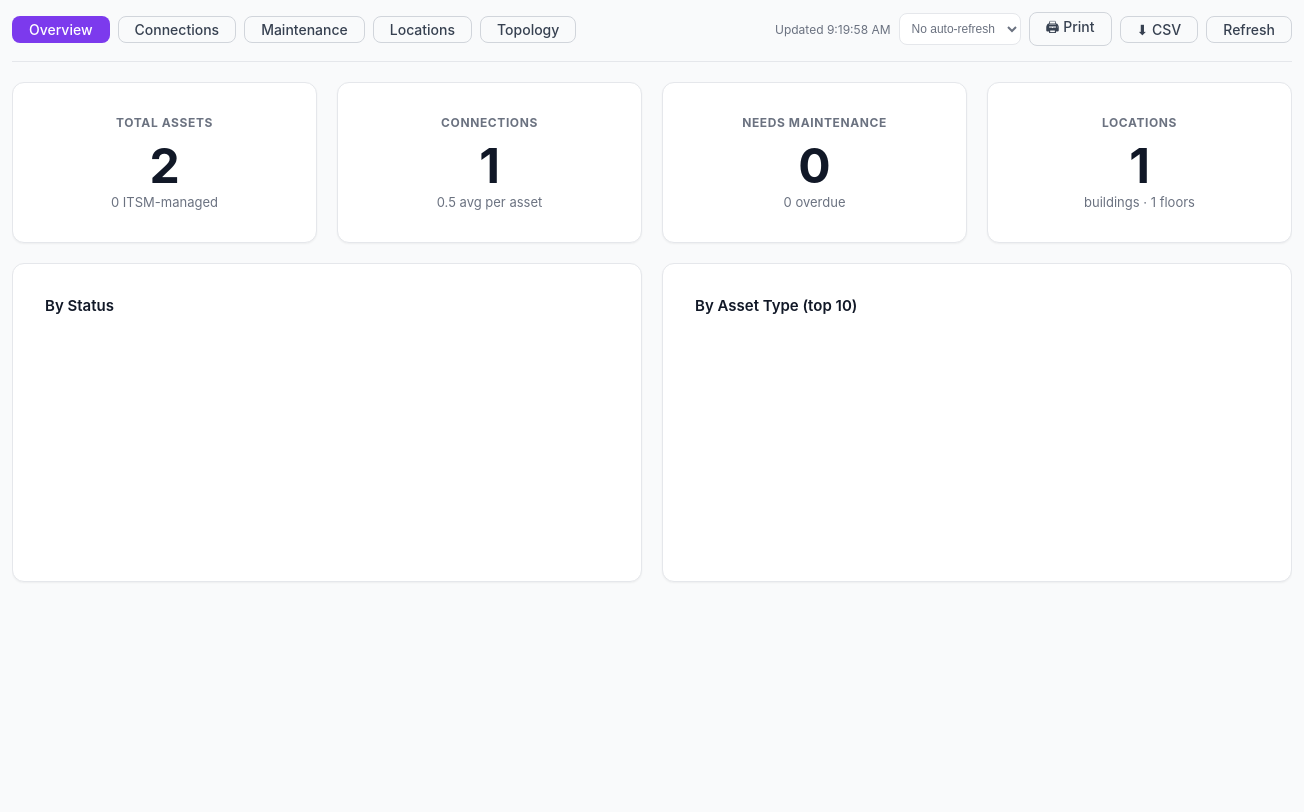
Test: AssetReports â€” Topology filters › Topology tab shows Type and Floor filter dropdowns
Expected: the heading "Total Assets" is shown, [116,115,213,130]
Click the button "Topology" at (528, 29), box [480,16,576,42]
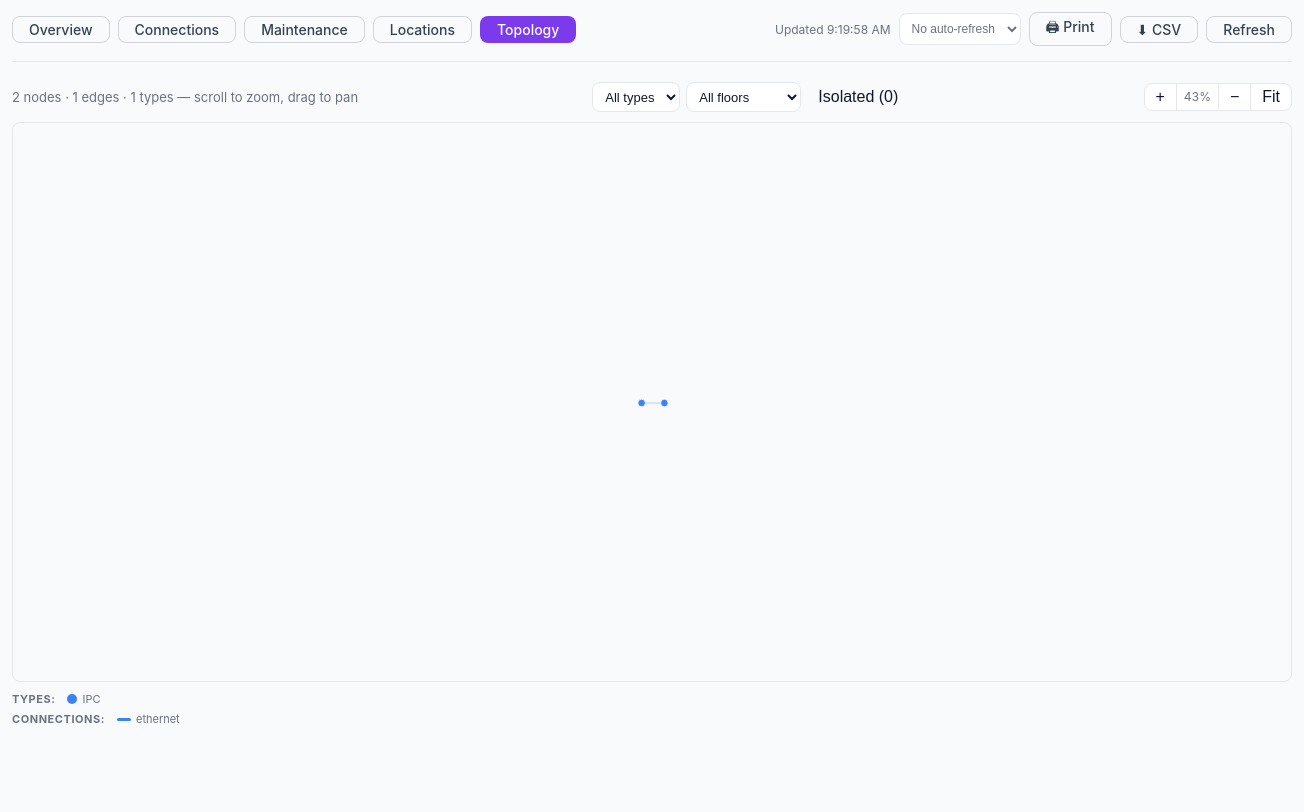
Result: the 2nd dropdown is shown at [592,82,680,112]
